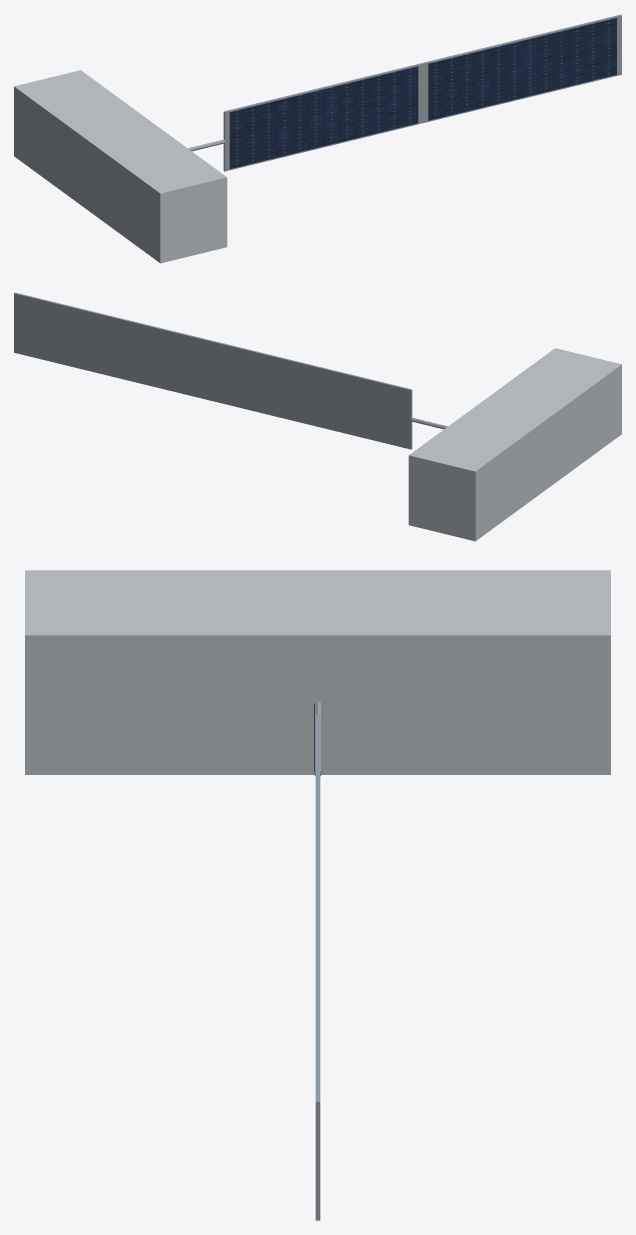
The model's file is ref-cast-968b-38997.glb.
3 renders of one model, top to bottom at view 1: azimuth 30°, elevation 25°; view 2: azimuth 150°, elevation 25°; view 3: azimuth 270°, elevation 25°, orthographic. The views are drawn at different scales.
Visible parts, largest first — view 1: Spacecraft body, Photovoltaic laminates (×2), Array frame (×2); view 2: Spacecraft body, Array frame (×2); view 3: Spacecraft body, Array frame (×2).
Part boxes in pixels (box(x1,y1,x2,y2)): Spacecraft body: box(14, 70, 227, 263); Photovoltaic laminates (×2): box(229, 18, 616, 168); Array frame (×2): box(223, 14, 621, 171); Spacecraft body: box(408, 348, 621, 541); Array frame (×2): box(14, 292, 412, 449); Spacecraft body: box(25, 570, 610, 774); Array frame (×2): box(315, 714, 320, 1220).
Bounding box in the file's own units: 8 × 1 × 3.8.
3 materials, 1 textured.
